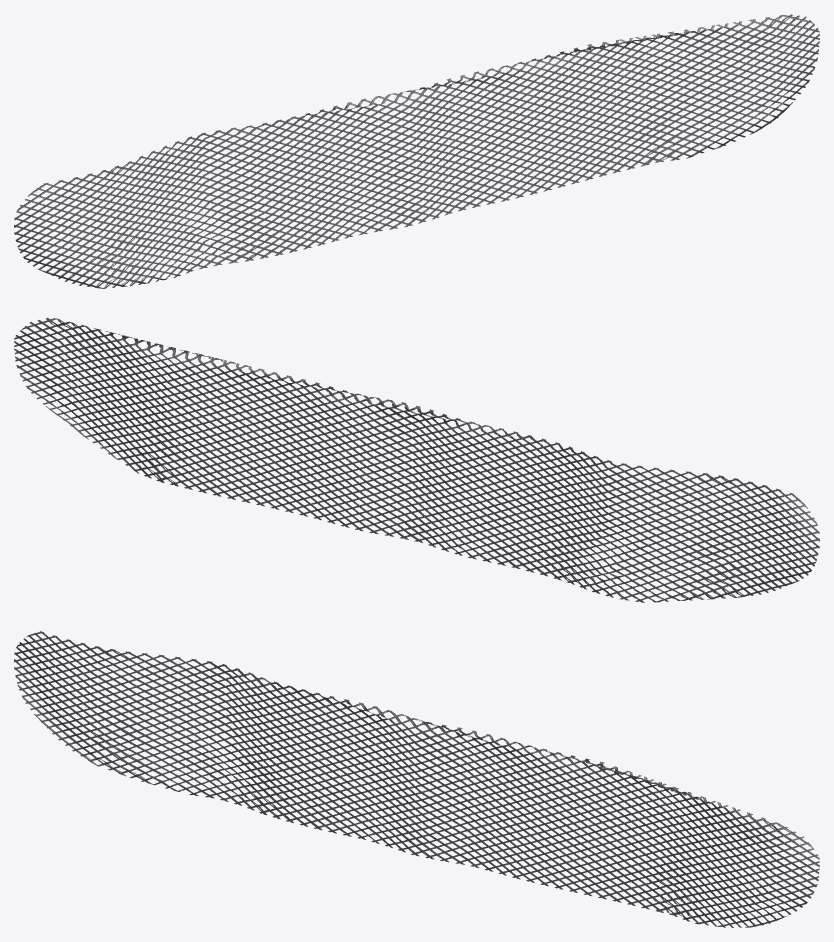
Rendered from ZG02_zunsport_grille_stainless.glb.
3 renders of one model, top to bottom at view 1: azimuth 30°, elevation 25°; view 2: azimuth 150°, elevation 25°; view 3: azimuth 330°, elevation 25°, orthographic.
Visible parts, largest first — view 1: MOD_NA_ZG02_mouth; view 2: MOD_NA_ZG02_mouth; view 3: MOD_NA_ZG02_mouth.
Boxes of the visible parts, x1,y1,x2,y2 form: MOD_NA_ZG02_mouth: (14,14,819,288); MOD_NA_ZG02_mouth: (14,317,819,602); MOD_NA_ZG02_mouth: (14,631,819,927).
Size of the model in its own units: 0.797 by 0.128 by 0.0325.
1 material, 1 textured.
